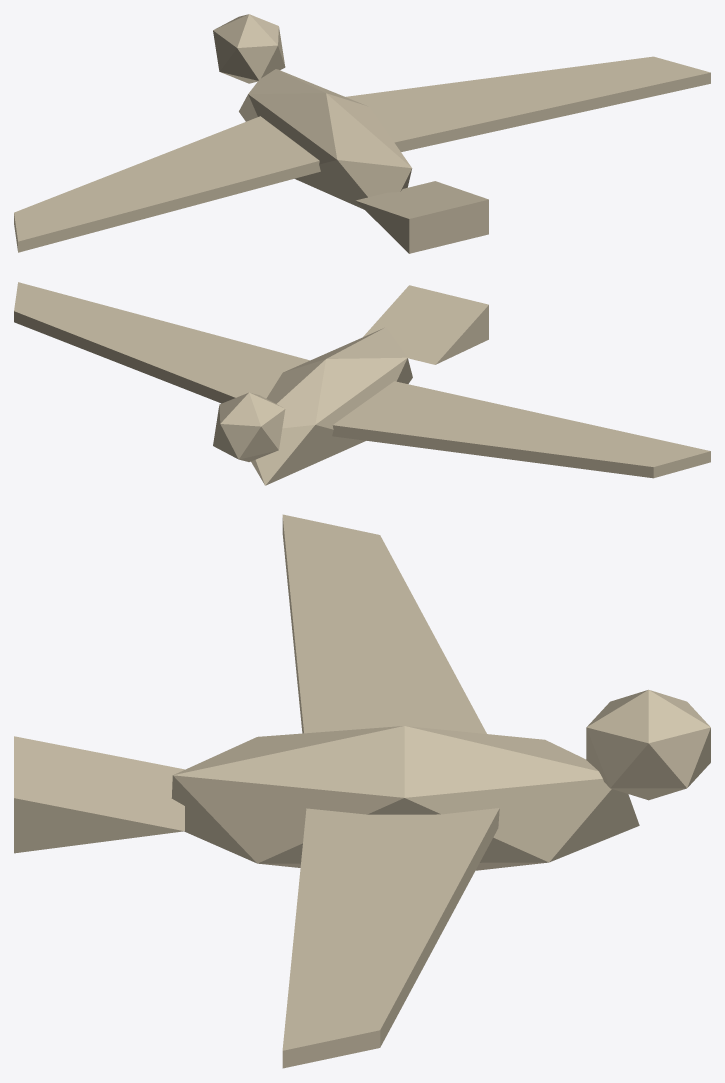
The model's file is gull.fbx.
3 renders of one model, top to bottom at view 1: azimuth 30°, elevation 25°; view 2: azimuth 150°, elevation 25°; view 3: azimuth 270°, elevation 25°, orthographic. The views are drawn at different scales.
Visible parts, largest first — view 1: gull; view 2: gull; view 3: gull.
Boxes of the visible parts, x1,y1,x2,y2 form: gull: (14,14,710,253); gull: (14,282,710,485); gull: (14,514,710,1068).
Bounding box in the file's own units: 520 × 85.43 × 286.
